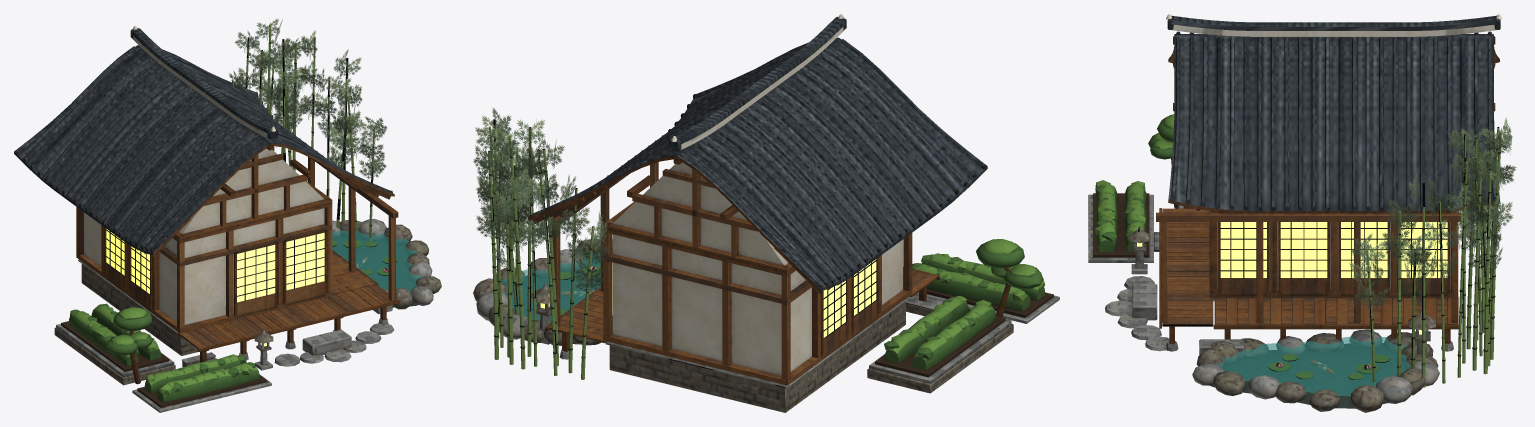
Rendered from farmhouse_east_asia_tea.glb.
3 views of the same model, side by side, from view 1: azimuth 30°, elevation 25°; view 2: azimuth 150°, elevation 25°; view 3: azimuth 270°, elevation 25° (orthographic). The views are drawn at different scales.
Visible parts, largest first — view 1: AsiaRoof, AsiaTimber, AsiaGardenKoi, AsiaStone, AsiaWalls, BambooFoliage, ShojiGlowPanels, KoiPondWater; view 2: AsiaRoof, AsiaWalls, AsiaTimber, AsiaGardenKoi, AsiaStone, BambooFoliage, KoiPondWater, ShojiGlowPanels; view 3: AsiaRoof, AsiaTimber, AsiaGardenKoi, AsiaStone, BambooFoliage, ShojiGlowPanels, KoiPondWater, AsiaWalls.
Boxes of the visible parts, x1,y1,x2,y2 form: AsiaRoof: [14, 25, 394, 255]; AsiaTimber: [76, 144, 399, 384]; AsiaGardenKoi: [61, 24, 419, 407]; AsiaStone: [54, 218, 441, 412]; AsiaWalls: [84, 148, 324, 324]; BambooFoliage: [229, 18, 387, 182]; ShojiGlowPanels: [106, 229, 324, 346]; KoiPondWater: [332, 230, 423, 293]; AsiaRoof: [528, 14, 987, 291]; AsiaWalls: [612, 162, 902, 375]; AsiaTimber: [532, 157, 1010, 385]; AsiaGardenKoi: [488, 119, 1053, 379]; AsiaStone: [473, 239, 1059, 412]; BambooFoliage: [473, 107, 608, 293]; KoiPondWater: [501, 253, 600, 322]; ShojiGlowPanels: [540, 259, 876, 337]; AsiaRoof: [1166, 14, 1502, 213]; AsiaTimber: [1156, 36, 1495, 343]; AsiaGardenKoi: [1093, 114, 1501, 408]; AsiaStone: [1088, 194, 1453, 412]; BambooFoliage: [1349, 117, 1516, 313]; ShojiGlowPanels: [1137, 222, 1447, 334]; KoiPondWater: [1216, 336, 1409, 396]; AsiaWalls: [1217, 222, 1450, 290].
Size of the model in its own units: 11.49 by 6.56 by 9.34.
Materials: 4 (2 with a texture image).
